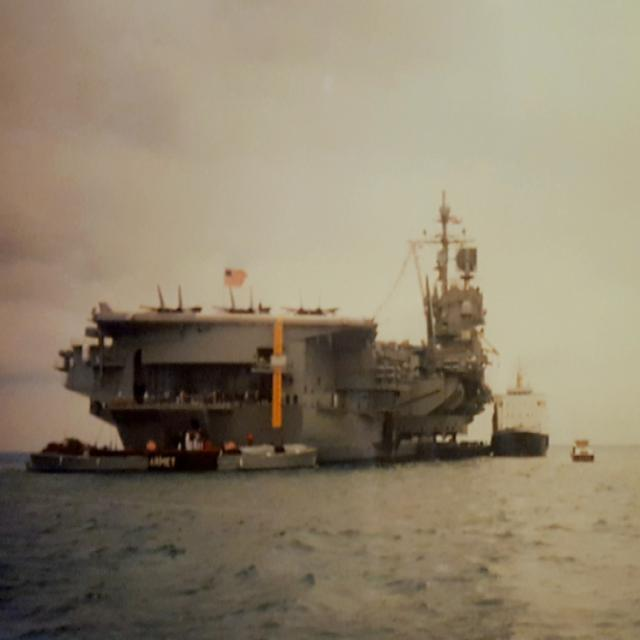Portanaves: (57, 175, 533, 478)
